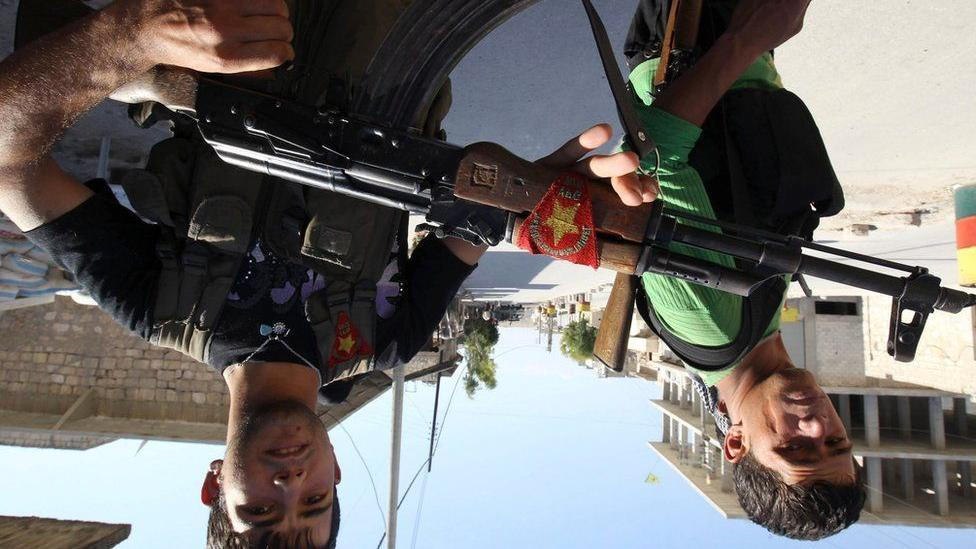larga: (107, 62, 976, 366), (592, 272, 638, 372)
